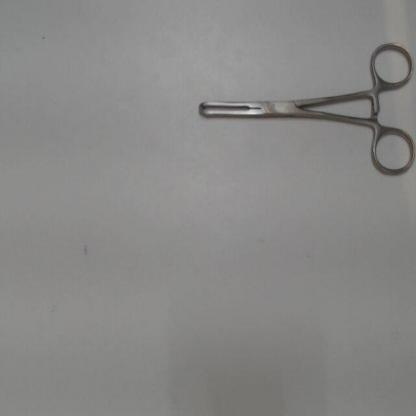Allis Tissue Forceps: (188, 34, 416, 186)
